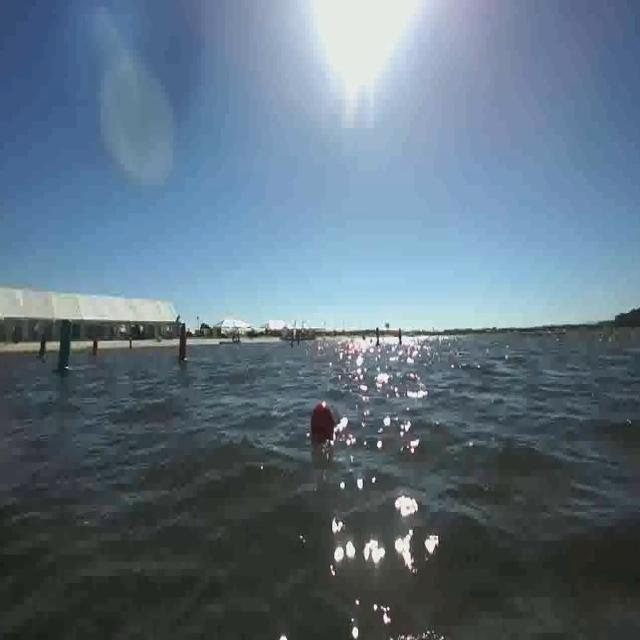green-column-buoy: (54, 324, 77, 375), (37, 334, 49, 363)
red-buoy: (310, 401, 336, 446), (176, 328, 189, 367)
